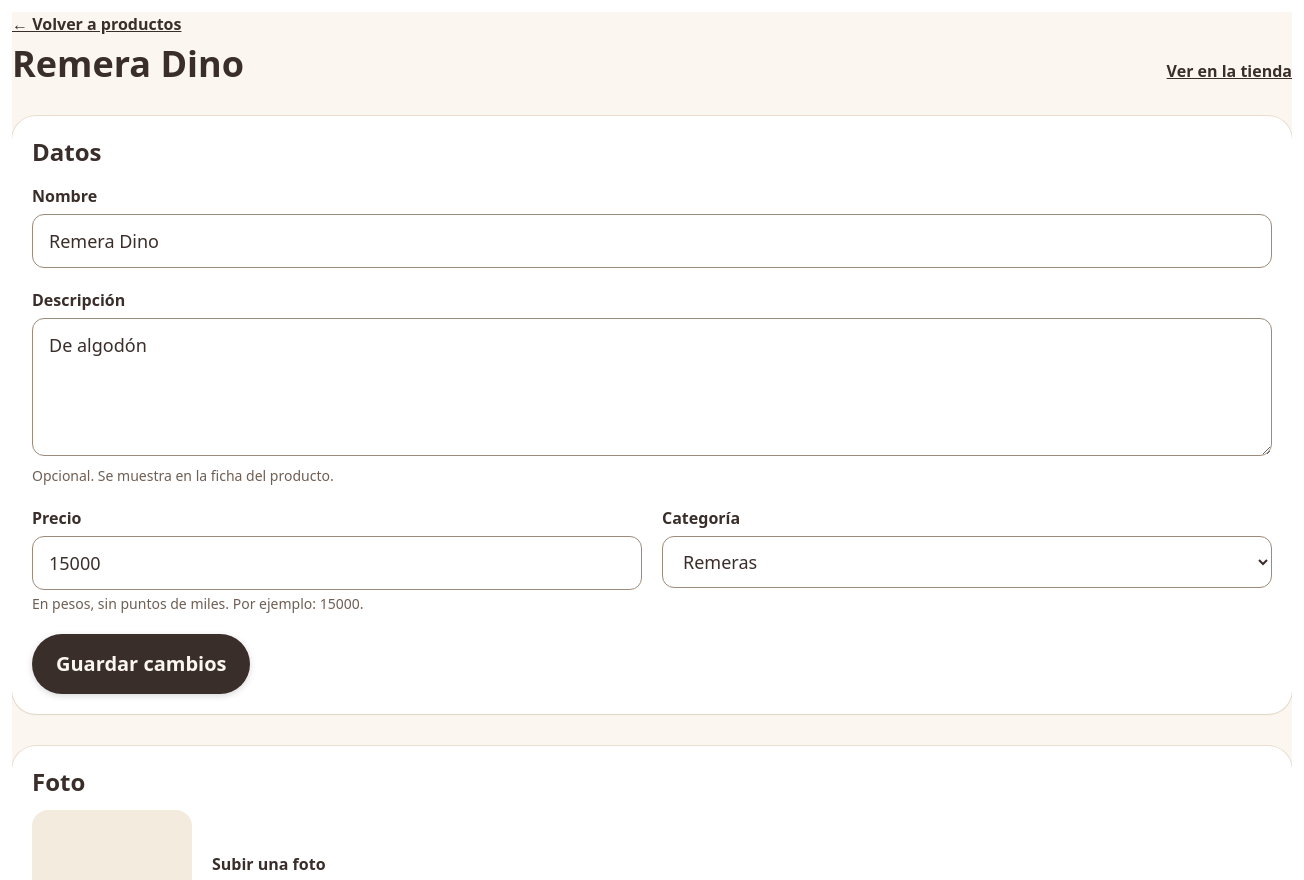
Test: Editar producto › muestra los datos actuales y guarda solo los cambios basicos
Expected: the field labelled "Nombre" holds "Remera Dino", [32,214,1272,268]
Replace the text in the field labelled "Precio" with "18000" at (337, 563), box [32,536,642,590]
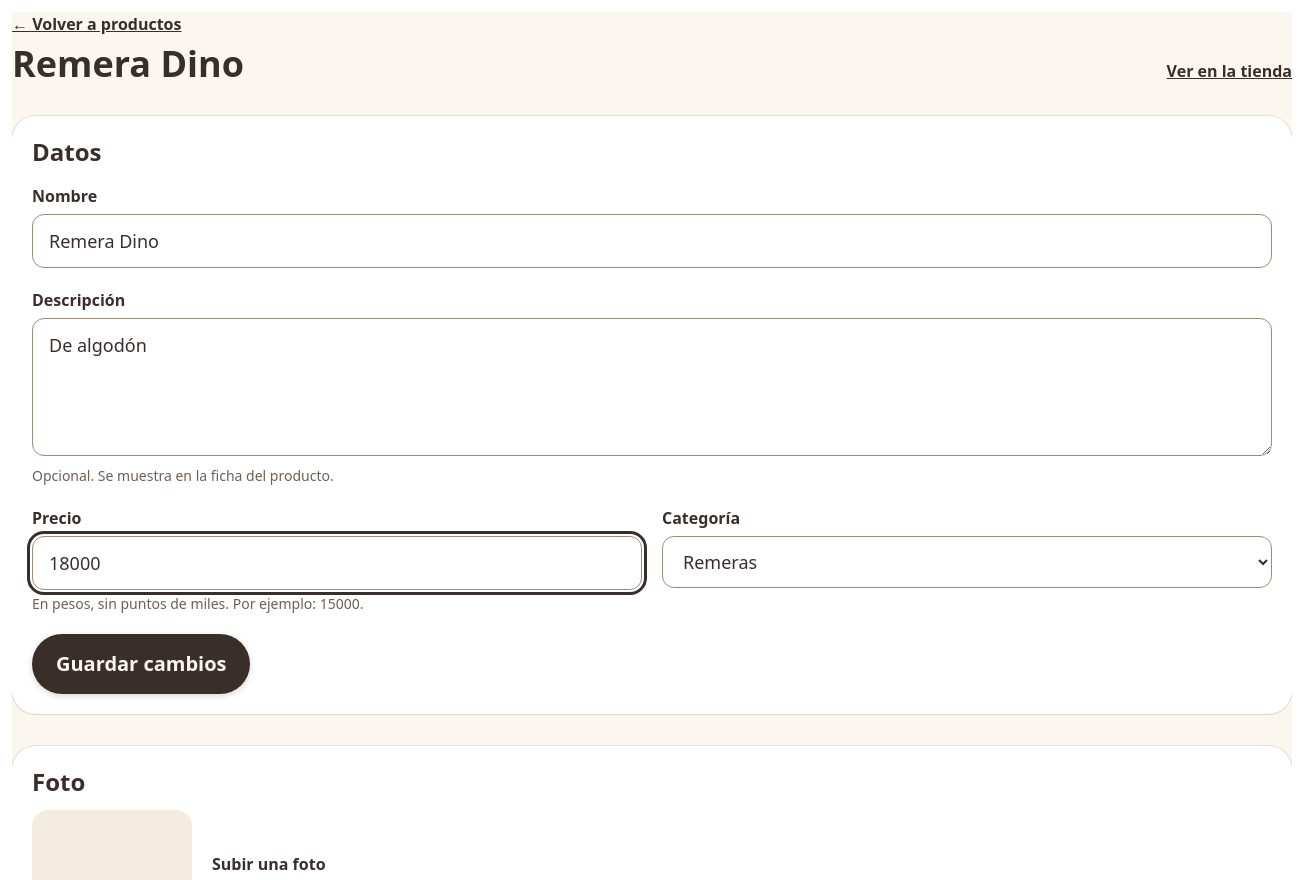
Click the button "Guardar cambios" at (141, 664), box [32,634,250,694]
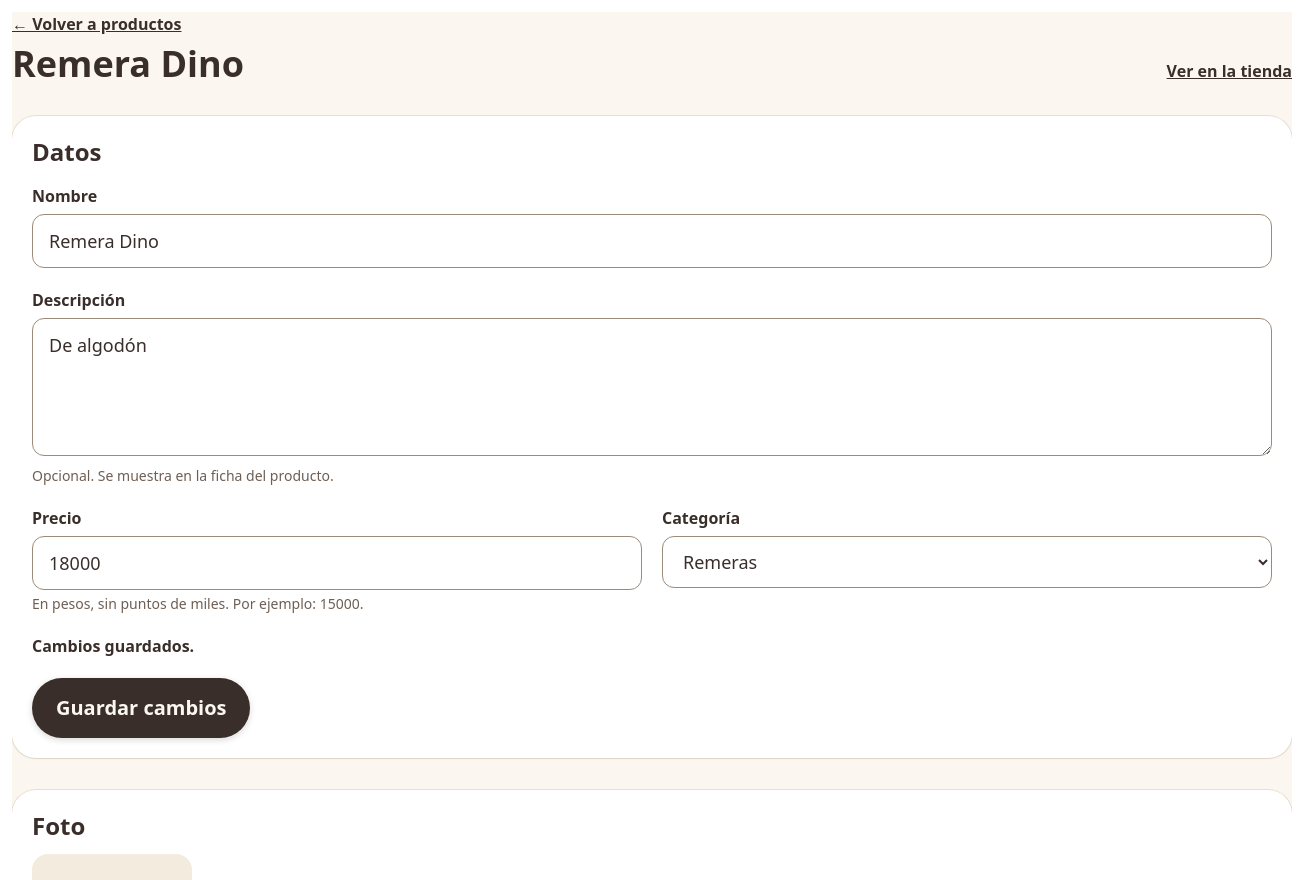
Now the text "Cambios guardados." is shown, box [32,635,194,657]
